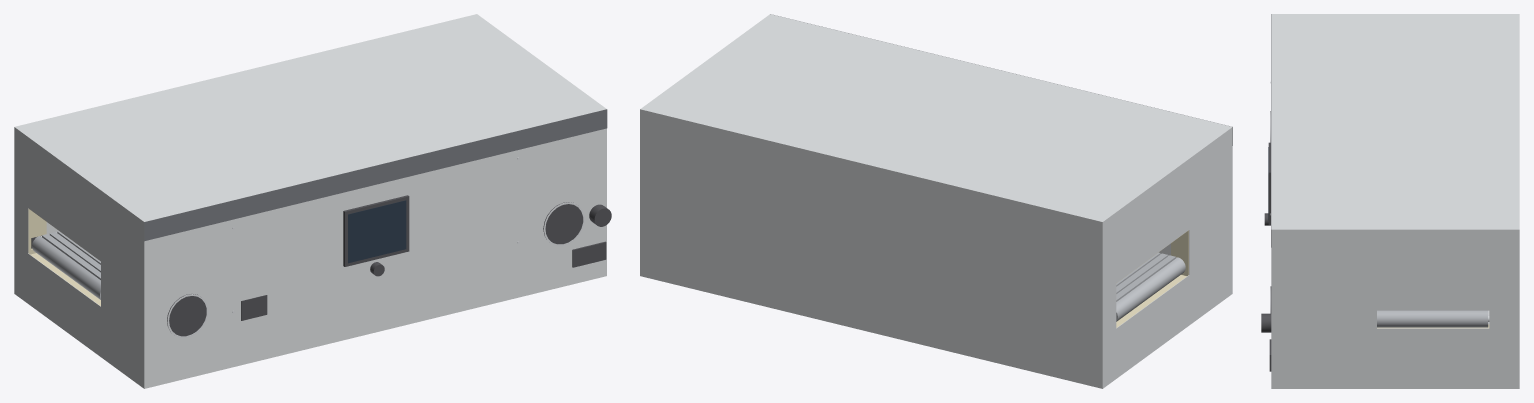
Rendered from firin_tp10_v7.glb.
The picture shows the model from 3 angles, left to right: view 1: azimuth 30°, elevation 25°; view 2: azimuth 150°, elevation 25°; view 3: azimuth 270°, elevation 25°; orthographic projection. The views are drawn at different scales.
Parts seen in each view (by area): view 1: TP10U__F_TP10_GOVDE__paslanmaz, TP10U__F_TP10_GOVDE__grafit, TP10U__F_TP10_GOVDE__koyu, TP10U__F_TP10_GOVDE__ekran, TP10U__F_TP10_KONVEYOR__tel_bant, TP10U__F_TP10_GOVDE__yalitim, TP10U__F_TP10_GOVDE__celik; view 2: TP10U__F_TP10_GOVDE__paslanmaz, TP10U__F_TP10_KONVEYOR__tel_bant, TP10U__F_TP10_GOVDE__yalitim; view 3: TP10U__F_TP10_GOVDE__paslanmaz, TP10U__F_TP10_KONVEYOR__tel_bant, TP10U__F_TP10_GOVDE__koyu, TP10U__F_TP10_GOVDE__grafit.
Part boxes in pixels (x1=…): TP10U__F_TP10_GOVDE__paslanmaz: x1=14, y1=14, x2=606, y2=388; TP10U__F_TP10_GOVDE__grafit: x1=144, y1=109, x2=607, y2=241; TP10U__F_TP10_GOVDE__koyu: x1=167, y1=195, x2=611, y2=336; TP10U__F_TP10_GOVDE__ekran: x1=348, y1=200, x2=406, y2=263; TP10U__F_TP10_KONVEYOR__tel_bant: x1=32, y1=231, x2=100, y2=299; TP10U__F_TP10_GOVDE__yalitim: x1=28, y1=208, x2=100, y2=305; TP10U__F_TP10_GOVDE__celik: x1=167, y1=157, x2=584, y2=337; TP10U__F_TP10_GOVDE__paslanmaz: x1=640, y1=14, x2=1232, y2=388; TP10U__F_TP10_KONVEYOR__tel_bant: x1=1116, y1=252, x2=1185, y2=321; TP10U__F_TP10_GOVDE__yalitim: x1=1116, y1=230, x2=1188, y2=327; TP10U__F_TP10_GOVDE__paslanmaz: x1=1271, y1=14, x2=1519, y2=388; TP10U__F_TP10_KONVEYOR__tel_bant: x1=1377, y1=310, x2=1488, y2=327; TP10U__F_TP10_GOVDE__koyu: x1=1261, y1=111, x2=1271, y2=371; TP10U__F_TP10_GOVDE__grafit: x1=1271, y1=14, x2=1271, y2=247.
Bounding box in the file's own units: 1.5 × 0.517 × 0.76.
